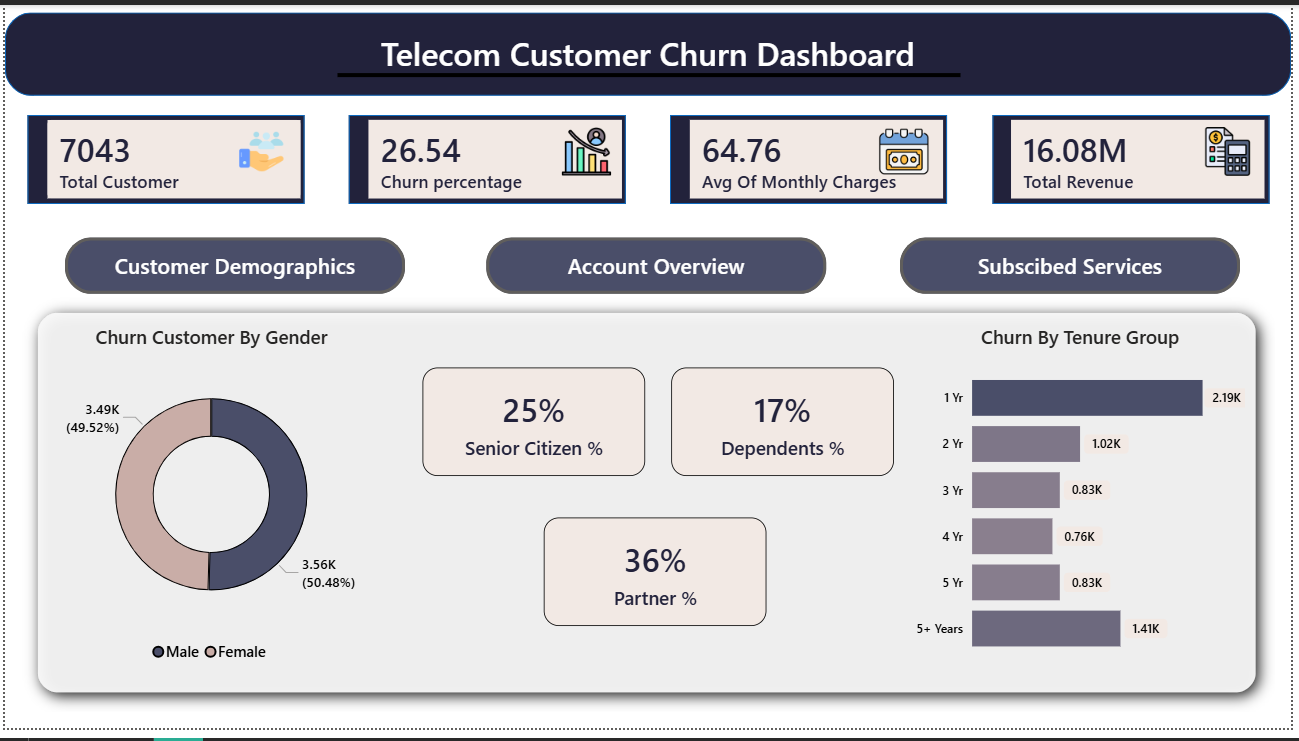

Layout of this report page (visuals, bound fields, positions):
{"tool":"powerbi","page":{"name":"Dashboard","canvas":[1280,720],"ordinal":0},"visuals":[{"type":"shape","box":[0,7.5,1280,82.9],"z":0,"group":"g8"},{"type":"textbox","box":[245.7,21.8,787.1,55.7],"z":0,"group":"g3"},{"type":"group","id":"g1","title":"Group 2","box":[22.1,110,1235.7,88.6],"z":0,"group":"g7"},{"type":"shape","box":[22.1,110,275.7,88.6],"z":0,"group":"g1"},{"type":"group","id":"g2","title":"Group 5","box":[14.3,287.1,1250,415.7],"z":0},{"type":"shape","box":[14.3,287.1,1250,415.7],"z":0,"group":"g2"},{"type":"barChart","title":"Churn By Tenure Group","fields":{"Category":["public customer.Tenure Group"],"Y":["CountNonNull(public customer.Churn)"]},"box":[901.4,317.5,338.6,345.8],"z":0,"group":"g5"},{"type":"group","id":"g3","title":"Group 3","box":[245.7,21.8,787.1,68.6],"z":1000,"group":"g8"},{"type":"shape","box":[330,50.4,620,40],"z":1000,"group":"g3"},{"type":"group","id":"g4","title":"Group 3","box":[37,110,1221.4,88.6],"z":1000,"group":"g7"},{"type":"cardVisual","fields":{"Data":["Count(public customer.Customer_id)"]},"box":[37,110,262,88.6],"z":1000,"group":"g4"},{"type":"shape","box":[662.1,110,275.7,88.6],"z":1000,"group":"g1"},{"type":"group","id":"g5","title":"Group 4","box":[40,317.5,1200,345.8],"z":1000,"group":"g2"},{"type":"card","fields":{"Values":["public customer.dependents_percentage"]},"box":[663.2,361.2,221.4,108.2],"z":1000,"group":"g5"},{"type":"shape","box":[982.1,110,275.7,88.6],"z":2000,"group":"g1"},{"type":"card","fields":{"Values":["public customer.senior_citizen_percentage"]},"box":[416.1,361.2,221.4,108.2],"z":2000,"group":"g5"},{"type":"shape","box":[342.1,110,275.7,88.6],"z":3000,"group":"g1"},{"type":"group","id":"g6","title":"Group 4","box":[225,121.4,1021.4,50],"z":3000,"group":"g7"},{"type":"actionButton","box":[59.7,231.4,338.4,56],"z":3000},{"type":"card","fields":{"Values":["public customer.partner_percentage"]},"box":[536.7,510,221.7,108.3],"z":3000,"group":"g5"},{"type":"cardVisual","fields":{"Data":["Avg(public customer.Monthly_charges)"]},"box":[676.4,110,262,88.6],"z":4000,"group":"g4"},{"type":"actionButton","box":[890.7,231.4,338.4,56],"z":4000},{"type":"donutChart","title":"Churn Customer By Gender","fields":{"Category":["public customer.Gender"],"Y":["CountNonNull(public customer.Customer_id)"]},"box":[40,317.5,331.4,345.8],"z":4000,"group":"g5"},{"type":"cardVisual","fields":{"Data":["Sum(public customer.Total_charges)"]},"box":[996.4,110,262,88.6],"z":5000,"group":"g4"},{"type":"actionButton","box":[478.9,231.4,338.4,56],"z":5000},{"type":"group","id":"g7","title":"Group 5","box":[22.1,110,1236.3,88.6],"z":6000},{"type":"cardVisual","fields":{"Data":["public customer.Churn percentage"]},"box":[356.4,110,262,88.6],"z":6000,"group":"g4"},{"type":"image","box":[225,121.4,60,50],"z":6500,"group":"g6"},{"type":"group","id":"g8","title":"Group 6","box":[0,7.5,1280,82.5],"z":7000},{"type":"image","box":[547.9,121.4,60,50],"z":7000,"group":"g6"},{"type":"image","box":[1186.4,121.4,60,50],"z":7500,"group":"g6"},{"type":"image","box":[865,121.4,60,50],"z":8000,"group":"g6"}]}

Visuals, with their boxes in screenshot pixels (x1, y1, x2, y2), scaled from the page's 1280x720 canvas onto the 1299x741 screenshot:
shape: <bbox>0, 8, 1298, 93</bbox>
textbox: <bbox>249, 22, 1048, 80</bbox>
"Group 2" group: <bbox>22, 113, 1276, 204</bbox>
shape: <bbox>22, 113, 302, 204</bbox>
"Group 5" group: <bbox>15, 295, 1283, 723</bbox>
shape: <bbox>15, 295, 1283, 723</bbox>
"Churn By Tenure Group" barChart: <bbox>915, 327, 1258, 683</bbox>
"Group 3" group: <bbox>249, 22, 1048, 93</bbox>
shape: <bbox>335, 52, 964, 93</bbox>
"Group 3" group: <bbox>38, 113, 1277, 204</bbox>
cardVisual - Count(public customer.Customer_id): <bbox>38, 113, 303, 204</bbox>
shape: <bbox>672, 113, 952, 204</bbox>
"Group 4" group: <bbox>41, 327, 1258, 683</bbox>
card - public customer.dependents_percentage: <bbox>673, 372, 898, 483</bbox>
shape: <bbox>997, 113, 1276, 204</bbox>
card - public customer.senior_citizen_percentage: <bbox>422, 372, 647, 483</bbox>
shape: <bbox>347, 113, 627, 204</bbox>
"Group 4" group: <bbox>228, 125, 1265, 176</bbox>
actionButton: <bbox>61, 238, 404, 296</bbox>
card - public customer.partner_percentage: <bbox>545, 525, 770, 636</bbox>
cardVisual - Avg(public customer.Monthly_charges): <bbox>686, 113, 952, 204</bbox>
actionButton: <bbox>904, 238, 1247, 296</bbox>
"Churn Customer By Gender" donutChart: <bbox>41, 327, 377, 683</bbox>
cardVisual - Sum(public customer.Total_charges): <bbox>1011, 113, 1277, 204</bbox>
actionButton: <bbox>486, 238, 829, 296</bbox>
"Group 5" group: <bbox>22, 113, 1277, 204</bbox>
cardVisual - public customer.Churn percentage: <bbox>362, 113, 628, 204</bbox>
image: <bbox>228, 125, 289, 176</bbox>
"Group 6" group: <bbox>0, 8, 1298, 93</bbox>
image: <bbox>556, 125, 617, 176</bbox>
image: <bbox>1204, 125, 1265, 176</bbox>
image: <bbox>878, 125, 939, 176</bbox>
